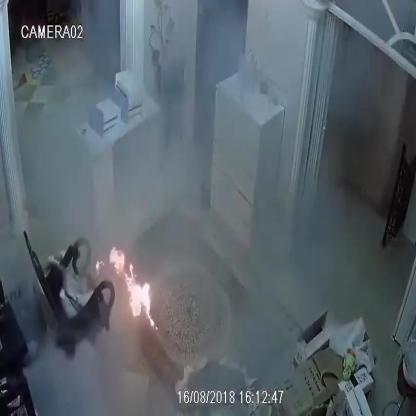fire: (125, 264, 158, 330), (110, 247, 124, 274), (95, 259, 105, 271)
